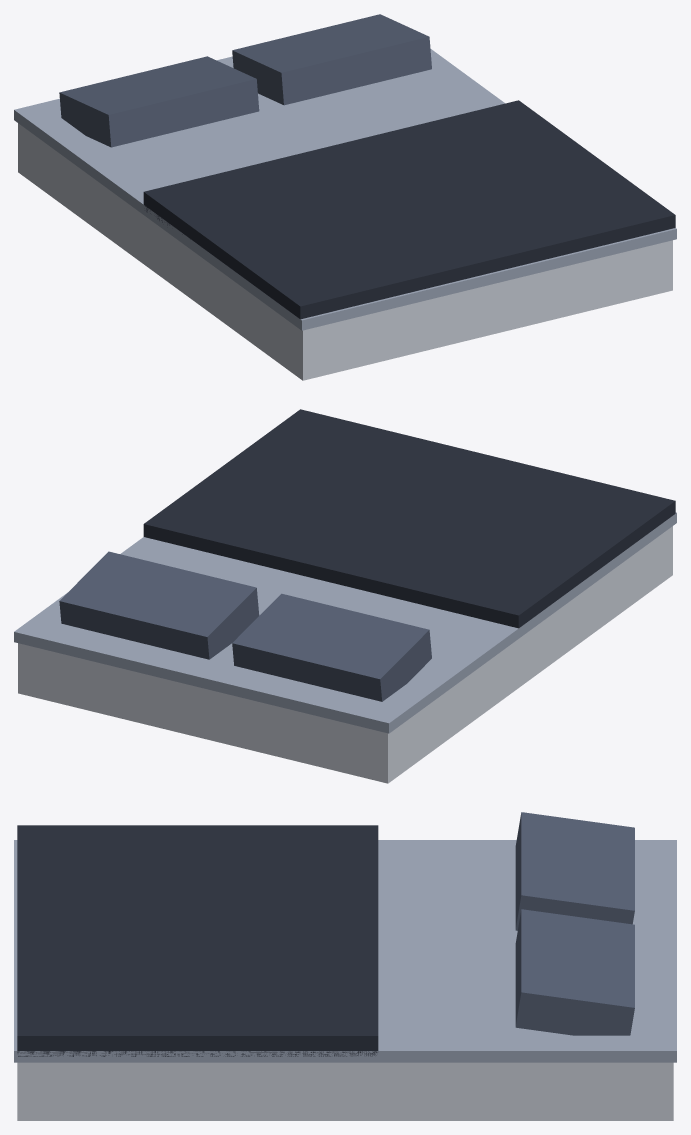
File: mattress_cool_1.glb
3 views of the same model, one above another, from view 1: azimuth 30°, elevation 25°; view 2: azimuth 150°, elevation 25°; view 3: azimuth 270°, elevation 25° (orthographic). The views are drawn at different scales.
Bounding box in the file's own units: 1.52 × 0.3855 × 2.02.
